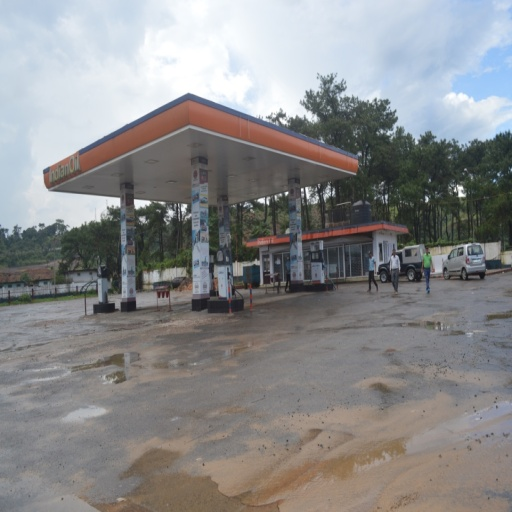roof: (44, 93, 361, 210)
